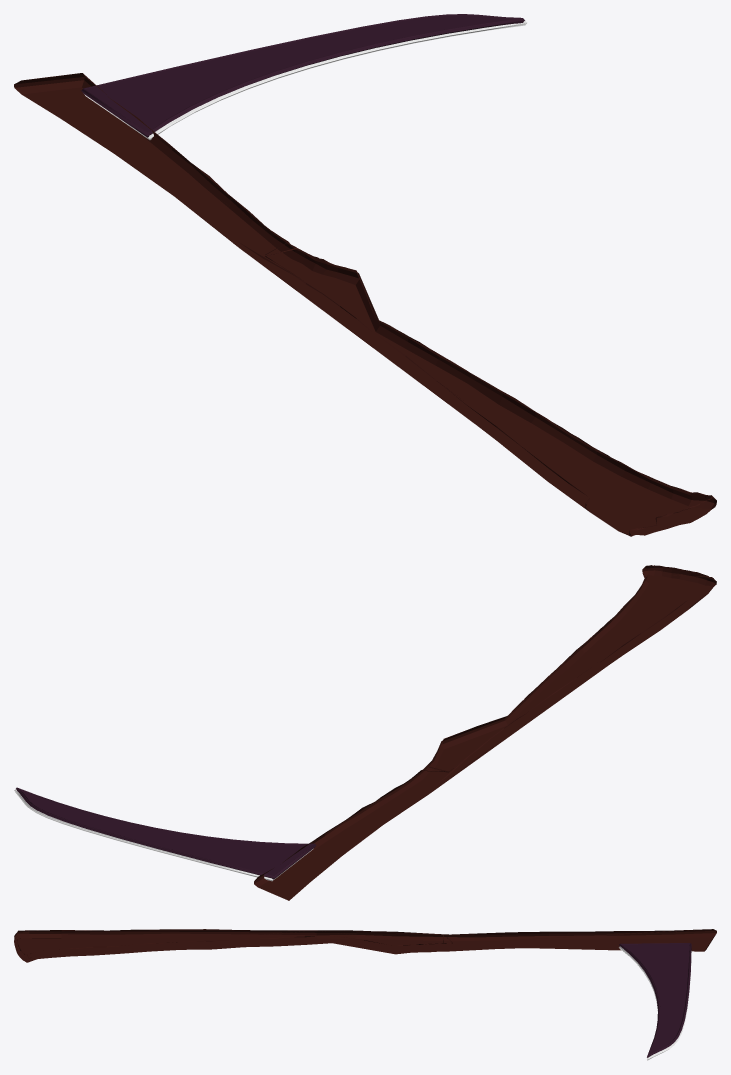
File: scythe.fbx
3 renders of one model, top to bottom at view 1: azimuth 30°, elevation 25°; view 2: azimuth 150°, elevation 25°; view 3: azimuth 270°, elevation 25°, orthographic. The views are drawn at different scales.
Parts seen in each view (by area): view 1: BézierCurve.001, BézierCurve, BézierCurve.002; view 2: BézierCurve.001, BézierCurve, BézierCurve.002; view 3: BézierCurve.001, BézierCurve, BézierCurve.002.
Part boxes in pixels (x1,y1,x2,y2): BézierCurve.001: (14,73,716,536); BézierCurve: (81,14,524,137); BézierCurve.002: (84,20,527,139); BézierCurve.001: (254,565,716,900); BézierCurve: (16,787,316,879); BézierCurve.002: (14,789,313,881); BézierCurve.001: (14,929,716,962); BézierCurve: (619,943,691,1057); BézierCurve.002: (619,946,691,1060).
Bounding box in the file's own units: 384 × 16.87 × 898.
